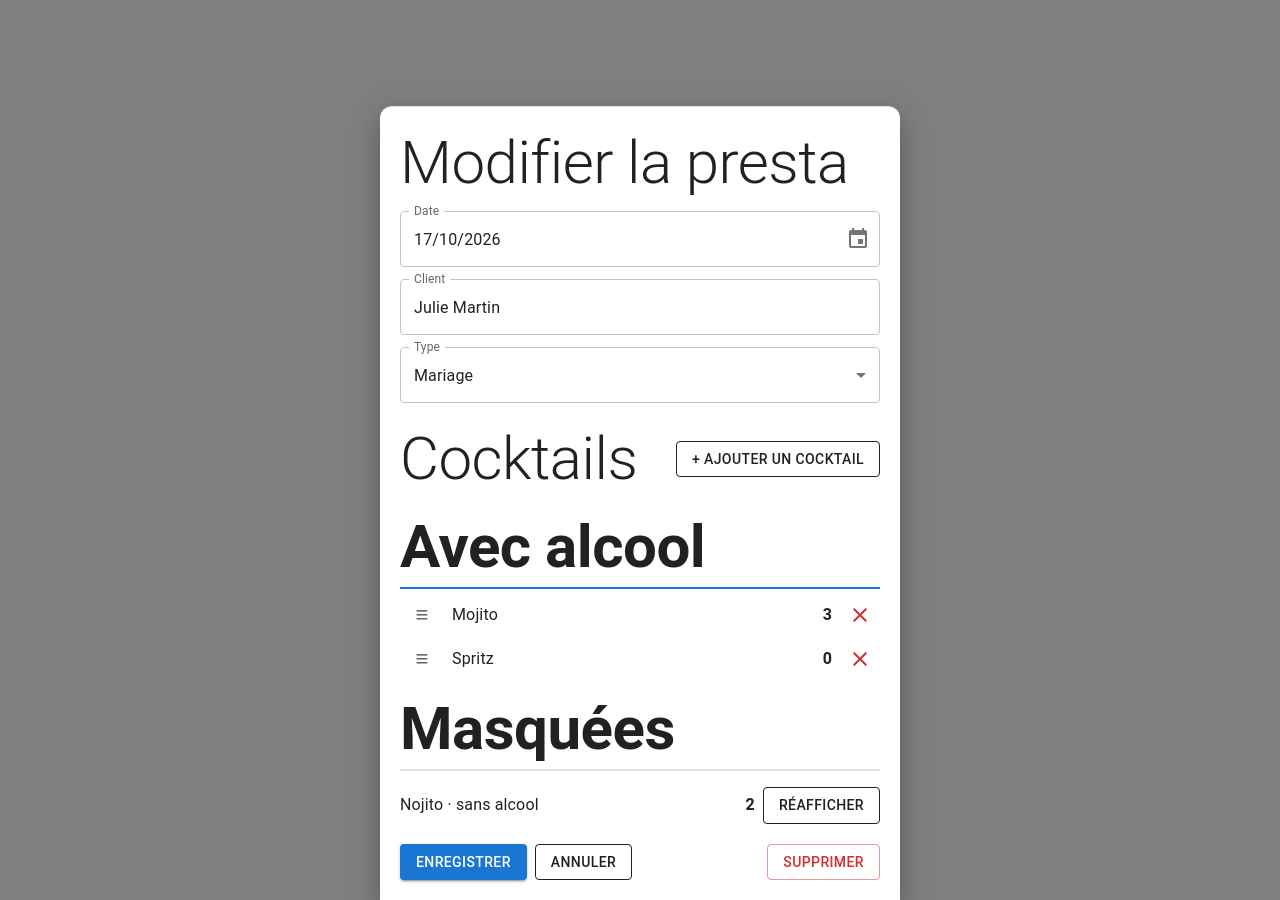
Test: EcranModifierPresta › propose trois choix pour une ligne comptée
Click the button named "Retirer".
click(860, 615)  # box [840,595,880,635]
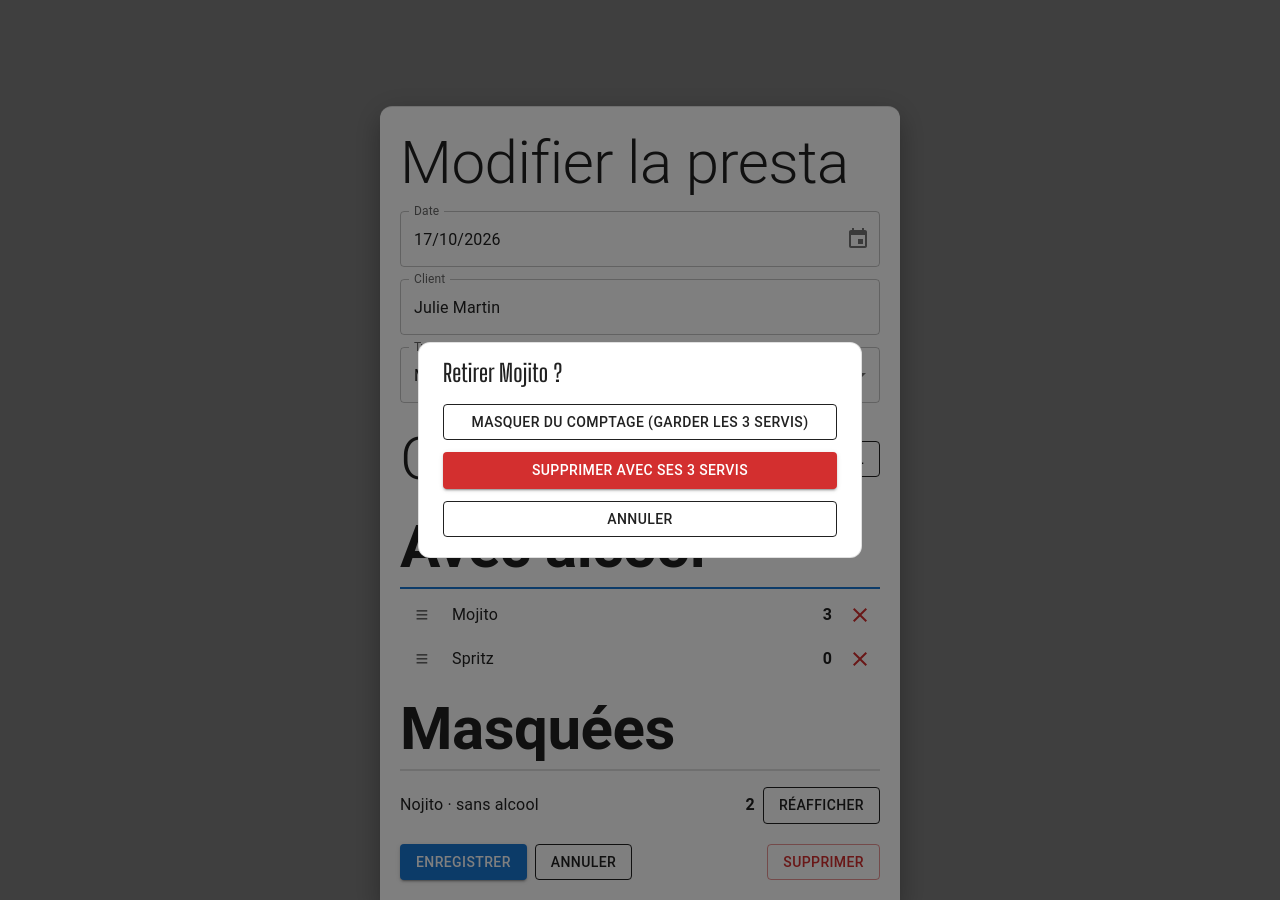
Check: the button "Masquer du comptage (garder les 3 servis)" is shown, box [443,404,837,440]
Check: the button "Supprimer avec ses 3 servis" is shown, box [443,452,837,489]
Check: the button "Annuler" is shown, box [443,501,837,537]
